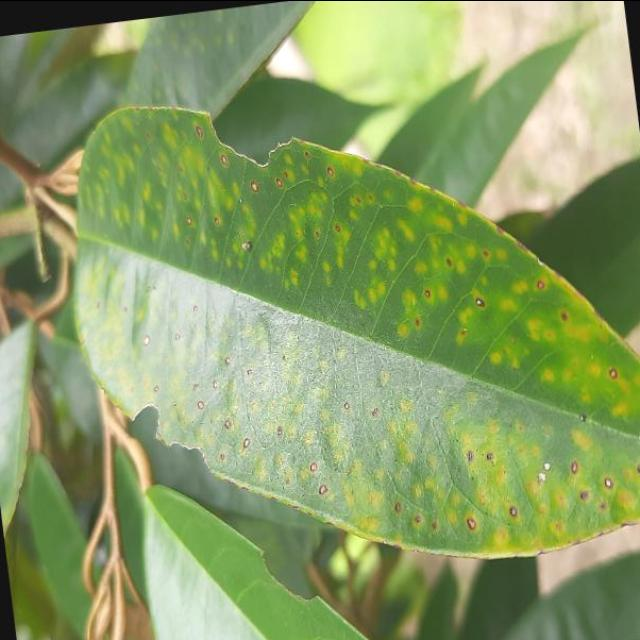Leaf Spot: (33, 32, 640, 623)
